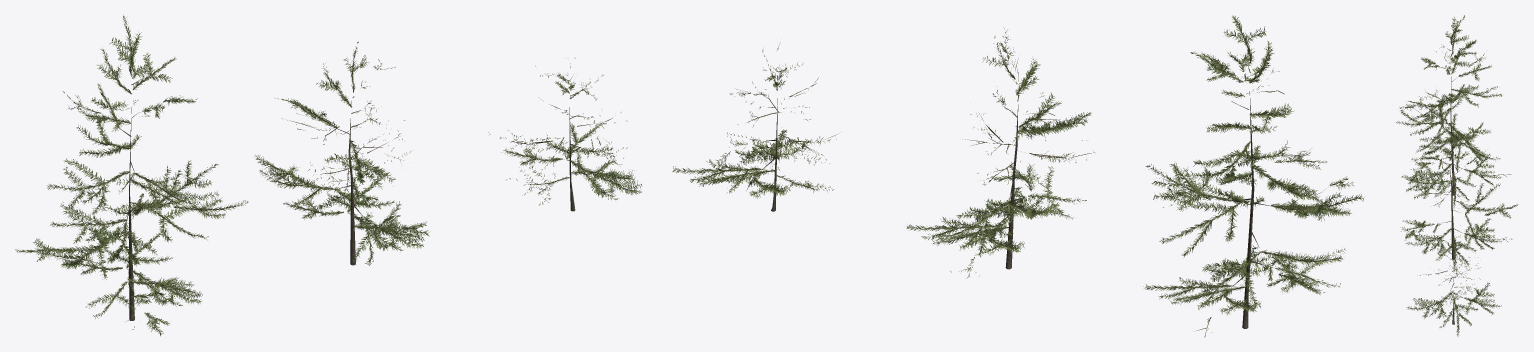
File: fir-mid.glb
The picture shows the model from 3 angles, left to right: view 1: azimuth 30°, elevation 25°; view 2: azimuth 150°, elevation 25°; view 3: azimuth 270°, elevation 25°; orthographic projection. The views are drawn at different scales.
Visible parts, largest first — view 1: fir_sapling_a; view 2: fir_sapling_a; view 3: fir_sapling_a.
Boxes of the visible parts, x1,y1,x2,y2 form: fir_sapling_a: (15,15,642,336); fir_sapling_a: (672,15,1363,337); fir_sapling_a: (1396,15,1518,336).
Size of the model in its own units: 2.74 by 1.3 by 0.8092.
2 materials, 2 textured.
